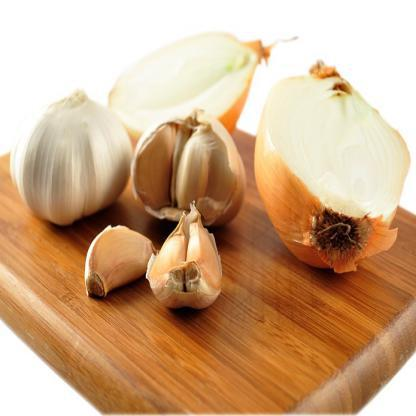onion: (262, 76, 406, 265)
